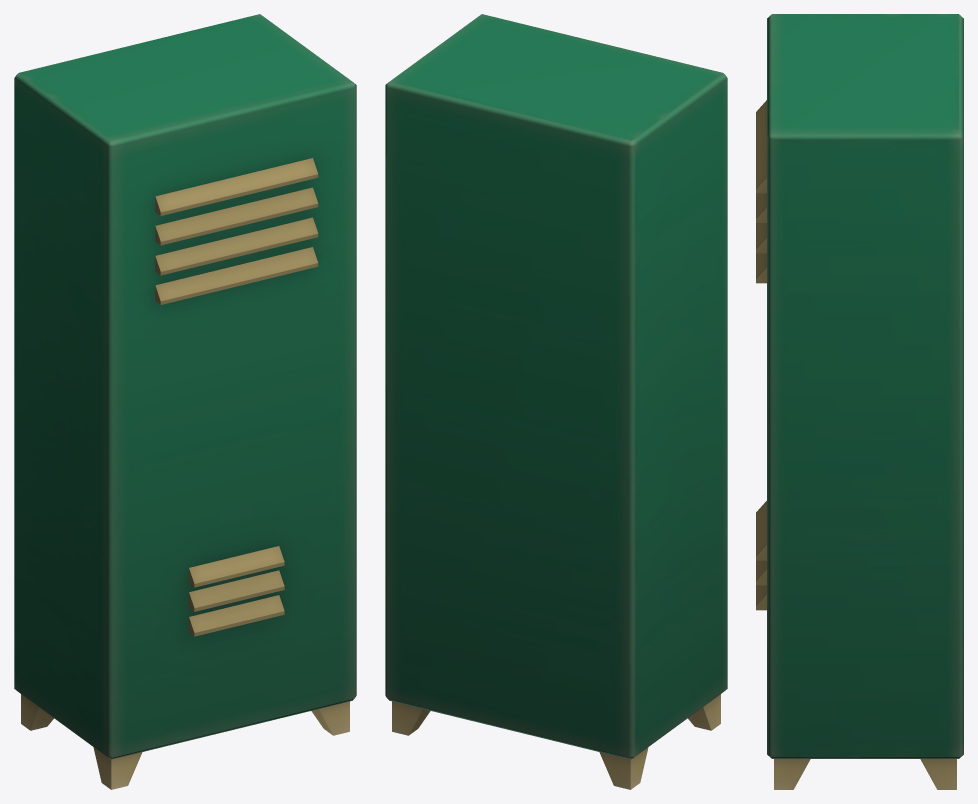
The model's file is Cabinet.fbx.
3 renders of one model, left to right at view 1: azimuth 30°, elevation 25°; view 2: azimuth 150°, elevation 25°; view 3: azimuth 270°, elevation 25°, orthographic.
Parts seen in each view (by area): view 1: Cabinet; view 2: Cabinet; view 3: Cabinet.
Part boxes in pixels (x1,y1,x2,y2): Cabinet: [14, 14, 356, 789]; Cabinet: [385, 14, 727, 789]; Cabinet: [756, 14, 963, 789].
Bounding box in the file's own units: 12.18 × 30.28 × 8.67.
1 material, 1 textured.
